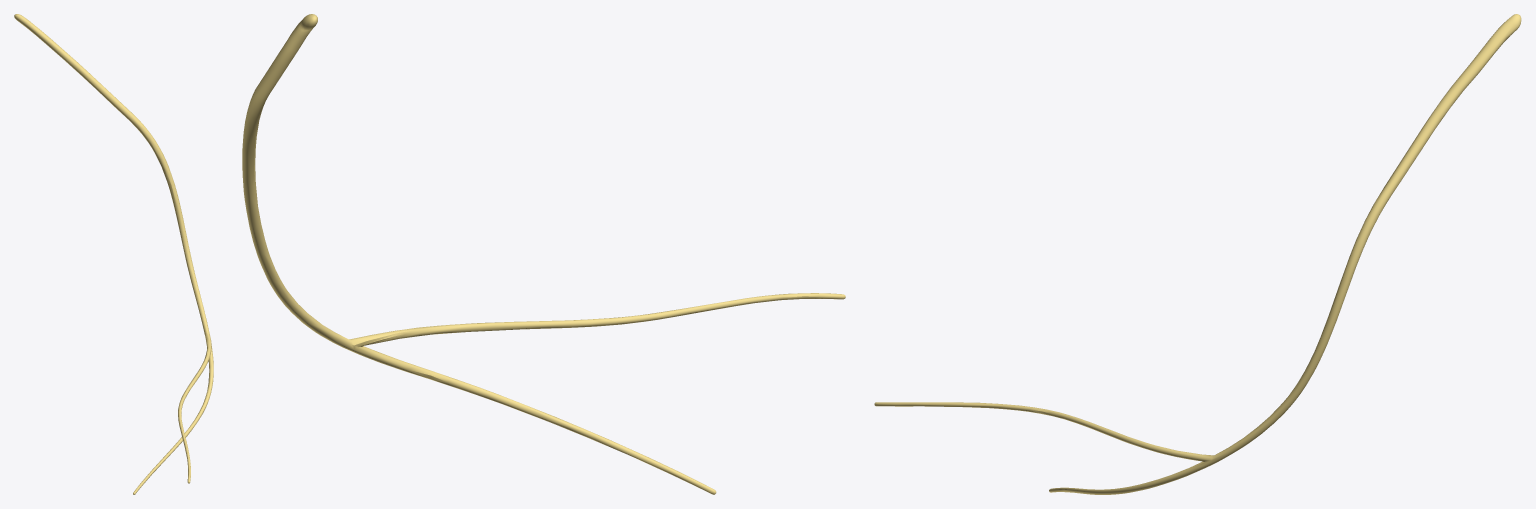
The model's file is fma53068_fj3935.glb.
3 renders of one model, left to right at view 1: azimuth 30°, elevation 25°; view 2: azimuth 150°, elevation 25°; view 3: azimuth 270°, elevation 25°, orthographic. The views are drawn at different scales.
Visible parts, largest first — view 1: FMA53068_FJ3935; view 2: FMA53068_FJ3935; view 3: FMA53068_FJ3935.
Part boxes in pixels (<box>): FMA53068_FJ3935: <box>14,14,213,494</box>; FMA53068_FJ3935: <box>242,14,845,494</box>; FMA53068_FJ3935: <box>874,14,1521,494</box>.
Size of the model in its own units: 0.018 by 0.0403 by 0.0464.
